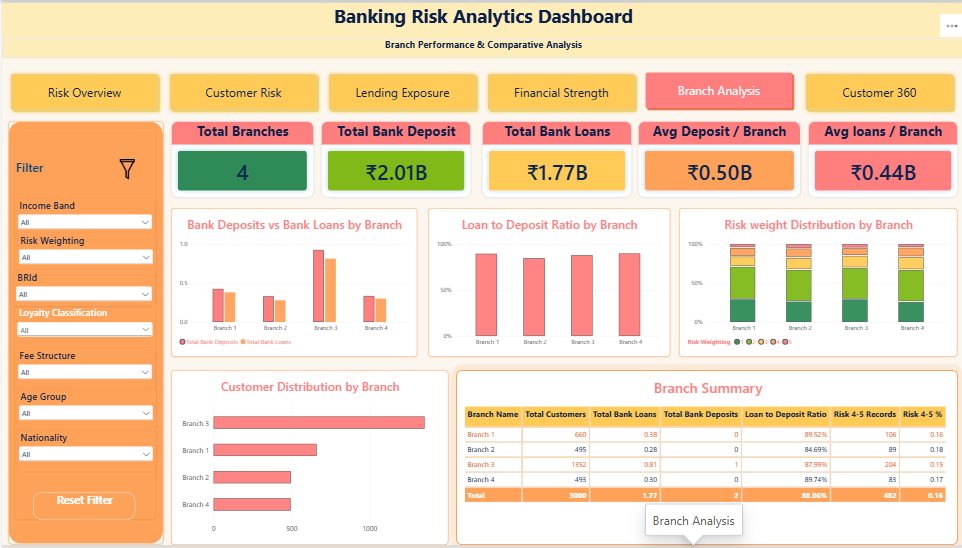

What the dashboard file says about the page in this screenshot:
{"tool":"powerbi","page":{"name":"Branch Analysis","canvas":[1920,1080],"ordinal":4},"visuals":[{"type":"shape","box":[0,0,1920,110.9],"z":0},{"type":"pageNavigator","box":[9.8,133.5,1894.9,88.4],"z":1000},{"type":"shape","box":[12,236,310,844],"z":2000},{"type":"shape","box":[26,252,280,778],"z":3000},{"type":"clusteredColumnChart","title":"Bank Deposits vs Bank Loans by Branch","fields":{"Category":["Banking.Branch Name"],"Y":["Measure.Total Bank Deposits","Measure.Total Bank Loans"]},"box":[336.5,408.8,491.4,297.3],"z":4000},{"type":"clusteredColumnChart","title":"Loan to Deposit Ratio by Branch","fields":{"Category":["Banking.Branch Name"],"Y":["Measure.Loan to Deposit Ratio"]},"box":[848.5,408.8,483.1,297.3],"z":5000},{"type":"clusteredBarChart","title":"Customer Distribution by Branch","fields":{"Category":["Banking.Branch Name"],"Y":["Measure.Total Customers"]},"box":[336.5,730.8,553.3,348.9],"z":7000},{"type":"hundredPercentStackedColumnChart","title":"Risk weight Distribution by Branch","fields":{"Category":["Banking.Branch Name"],"Series":["Banking.Risk Weighting"],"Y":["Measure.Total Customers"]},"box":[1350.2,408.8,555.4,297.3],"z":8000},{"type":"image","box":[210.6,311.7,76.4,41.3],"z":9000},{"type":"actionButton","title":"Reset Filter","box":[61.9,974.5,204.4,55.7],"z":10000},{"type":"textbox","box":[0,0,1920,70],"z":11000},{"type":"textbox","box":[28.9,291.1,274.6,61.9],"z":12000},{"type":"textbox","box":[0,70,1920,40],"z":13000},{"type":"slicer","fields":{"Values":["Banking.Income Band"]},"box":[26.8,388.1,278.7,82.6],"z":14000},{"type":"slicer","fields":{"Values":["Banking.Risk Weighting"]},"box":[28.9,458.3,278.7,82.6],"z":15000},{"type":"slicer","fields":{"Values":["Banking.Fee Structure"]},"box":[26.8,687.5,278.7,82.6],"z":16000},{"type":"slicer","fields":{"Values":["Banking.BRId"]},"box":[22.7,532.6,282.8,72.3],"z":17000},{"type":"slicer","fields":{"Values":["Banking.Loyalty Classification"]},"box":[26.8,604.9,278.7,82.6],"z":18000},{"type":"slicer","fields":{"Values":["Banking.Nationality"]},"box":[28.9,850.6,278.7,82.6],"z":19000},{"type":"slicer","fields":{"Values":["Banking.Age Group"]},"box":[28.9,770.1,278.7,82.6],"z":20000},{"type":"cardVisual","title":"Total Branches","fields":{"Data":["Measure.Total Branches"]},"box":[336.5,235.4,284.9,152.8],"z":21000},{"type":"cardVisual","title":"Total Bank Deposit","fields":{"Data":["Measure.Total Bank Deposits"]},"box":[635.9,235.4,299.4,152.8],"z":22000},{"type":"cardVisual","title":"Total Bank Loans","fields":{"Data":["Measure.Total Bank Loans"]},"box":[957.9,235.4,299.4,152.8],"z":23000},{"type":"cardVisual","title":"Avg Deposit / Branch","fields":{"Data":["Measure.Average Deposits per Branch"]},"box":[1267.6,235.4,324.1,152.8],"z":24000},{"type":"cardVisual","title":"Avg loans / Branch","fields":{"Data":["Measure.Average Loans per Branch"]},"box":[1606.2,235.4,299.4,152.8],"z":25000},{"type":"pivotTable","title":"Branch Summary","fields":{"Rows":["Banking.Branch Name"],"Values":["Measure.Total Customers","Measure.Total Bank Loans","Measure.Total Bank Deposits","Measure.Loan to Deposit Ratio","Measure.Risk 4-5 Records","Measure.Risk 4-5 %"]},"box":[904.3,730.8,1001.3,348.9],"z":26000}]}

Visuals, with their boxes in screenshot pixels (x1, y1, x2, y2), scaled from the page's 1920x1080 canvas onto the 962x548 screenshot:
shape: [0, 0, 961, 56]
pageNavigator: [5, 68, 954, 113]
shape: [6, 120, 161, 547]
shape: [13, 128, 153, 523]
"Bank Deposits vs Bank Loans by Branch" clusteredColumnChart: [169, 207, 415, 358]
"Loan to Deposit Ratio by Branch" clusteredColumnChart: [425, 207, 667, 358]
"Customer Distribution by Branch" clusteredBarChart: [169, 371, 446, 547]
"Risk weight Distribution by Branch" hundredPercentStackedColumnChart: [677, 207, 955, 358]
image: [106, 158, 144, 179]
"Reset Filter" actionButton: [31, 494, 133, 523]
textbox: [0, 0, 961, 36]
textbox: [14, 148, 152, 179]
textbox: [0, 36, 961, 56]
slicer - Banking.Income Band: [13, 197, 153, 239]
slicer - Banking.Risk Weighting: [14, 233, 154, 274]
slicer - Banking.Fee Structure: [13, 349, 153, 391]
slicer - Banking.BRId: [11, 270, 153, 307]
slicer - Banking.Loyalty Classification: [13, 307, 153, 349]
slicer - Banking.Nationality: [14, 432, 154, 474]
slicer - Banking.Age Group: [14, 391, 154, 433]
"Total Branches" cardVisual: [169, 119, 311, 197]
"Total Bank Deposit" cardVisual: [319, 119, 469, 197]
"Total Bank Loans" cardVisual: [480, 119, 630, 197]
"Avg Deposit / Branch" cardVisual: [635, 119, 798, 197]
"Avg loans / Branch" cardVisual: [805, 119, 955, 197]
"Branch Summary" pivotTable: [453, 371, 955, 547]
